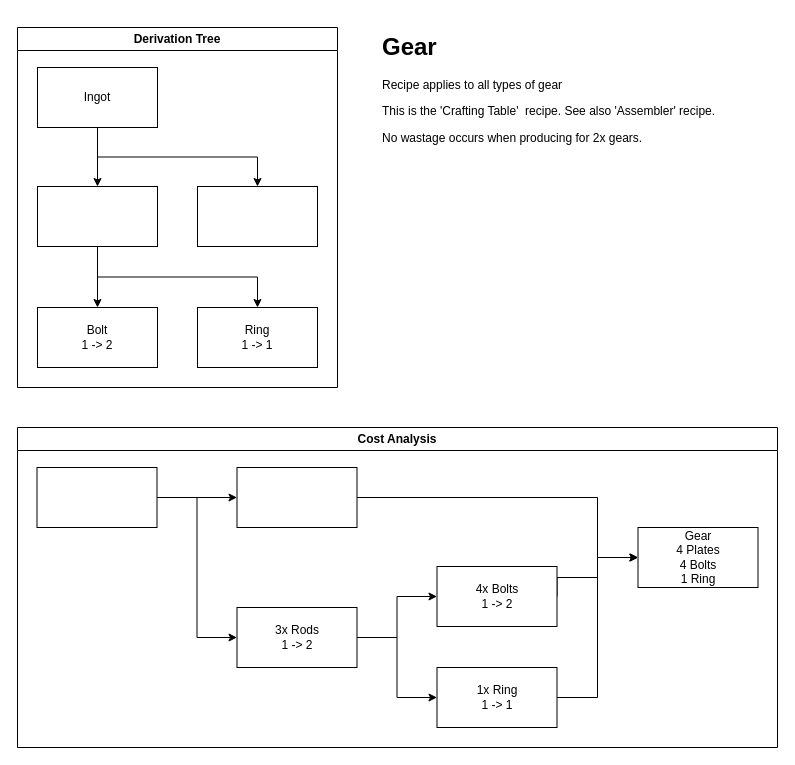
Some shapes in this 795 by 765 pixel diagram are drawn without their labels. The centre of each missing label's shape, as x and y in pixels:
4x Plates 1 -> 1: the point at 296,497
Ingots 5 + 1/2: the point at 96,497
Plates 1 -> 1: the point at 257,216
Rods 1 -> 2: the point at 97,216
